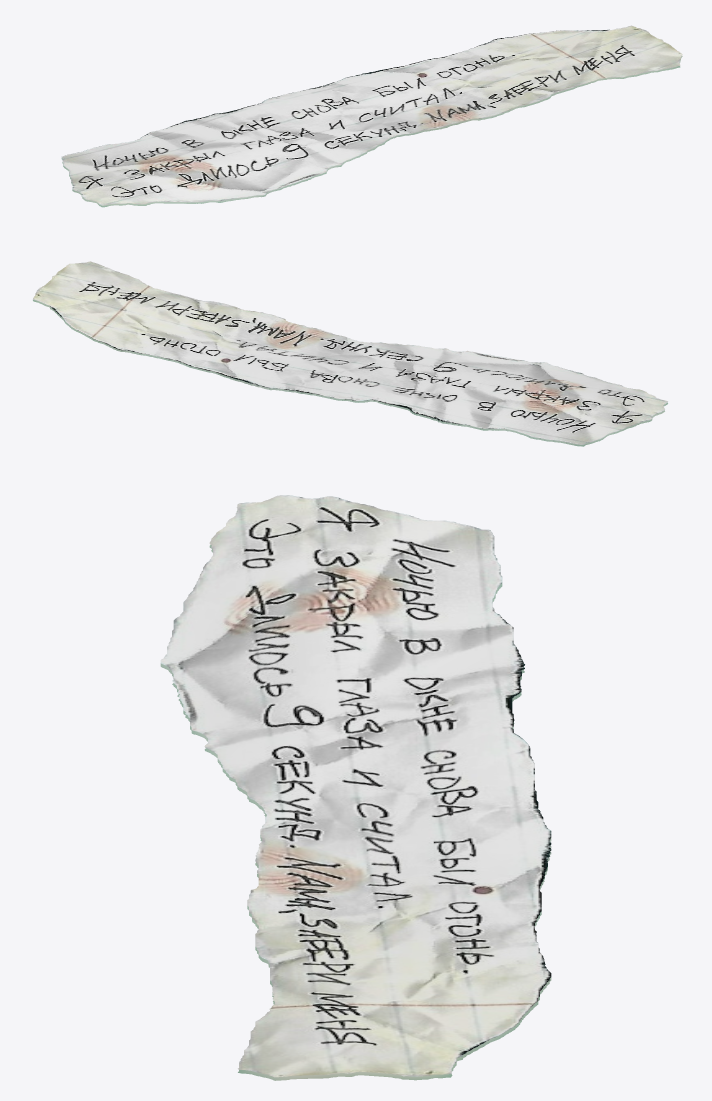
Rendered from Note_3.fbx.
3 renders of one model, top to bottom at view 1: azimuth 30°, elevation 25°; view 2: azimuth 150°, elevation 25°; view 3: azimuth 270°, elevation 25°, orthographic. The views are drawn at different scales.
Visible parts, largest first — view 1: Note_3; view 2: Note_3; view 3: Note_3.
Boxes of the visible parts, x1,y1,x2,y2 form: Note_3: [61, 25, 682, 207]; Note_3: [33, 261, 667, 446]; Note_3: [160, 495, 551, 1080].
Bounding box in the file's own units: 0.1796 × 0.00451 × 0.0519.
2 materials, 2 textured.
